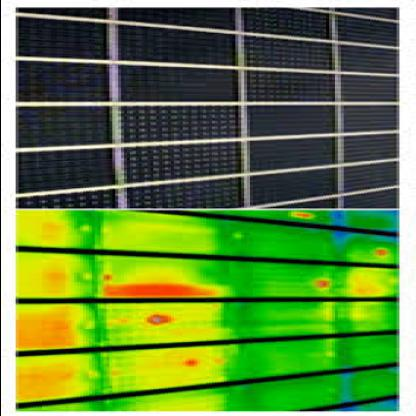Defects: (94, 281, 214, 297), (144, 314, 164, 326), (173, 360, 199, 367)
